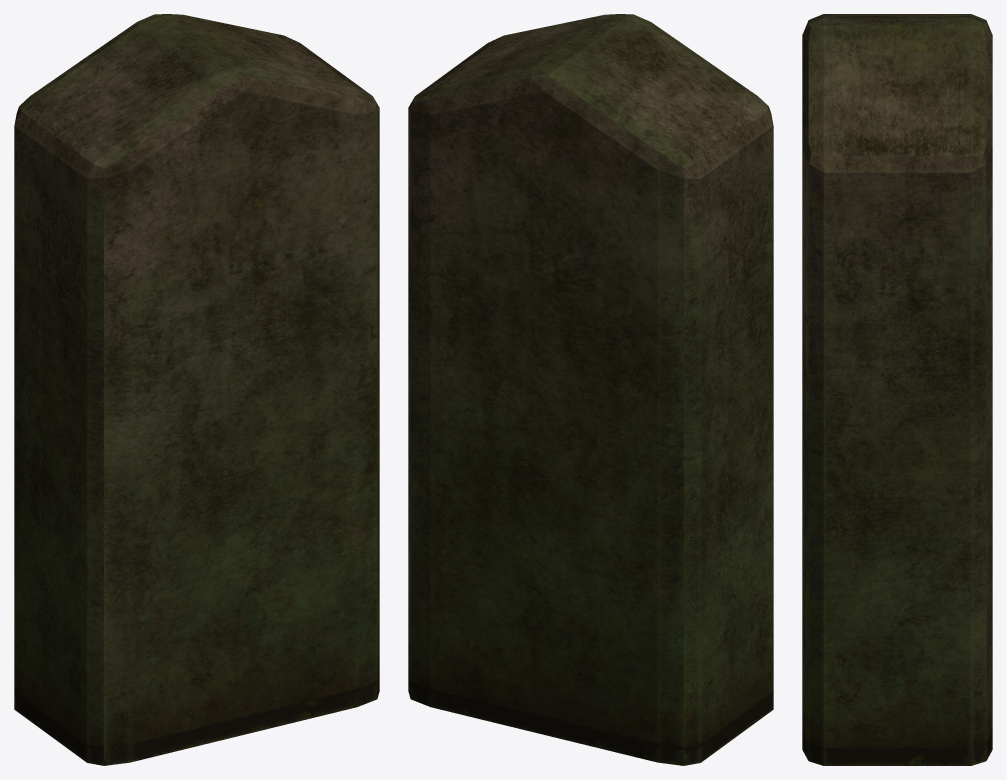
File: NNJ0410022.fbx
3 renders of one model, left to right at view 1: azimuth 30°, elevation 25°; view 2: azimuth 150°, elevation 25°; view 3: azimuth 270°, elevation 25°, orthographic.
Parts seen in each view (by area): view 1: smNNJ0410022; view 2: smNNJ0410022; view 3: smNNJ0410022.
Part boxes in pixels (x1,y1,x2,y2): smNNJ0410022: (14,14,379,765); smNNJ0410022: (408,14,773,765); smNNJ0410022: (802,14,992,765).
Size of the model in its own units: 55.83 by 120 by 30.96.
Materials: 1 (1 with a texture image).
